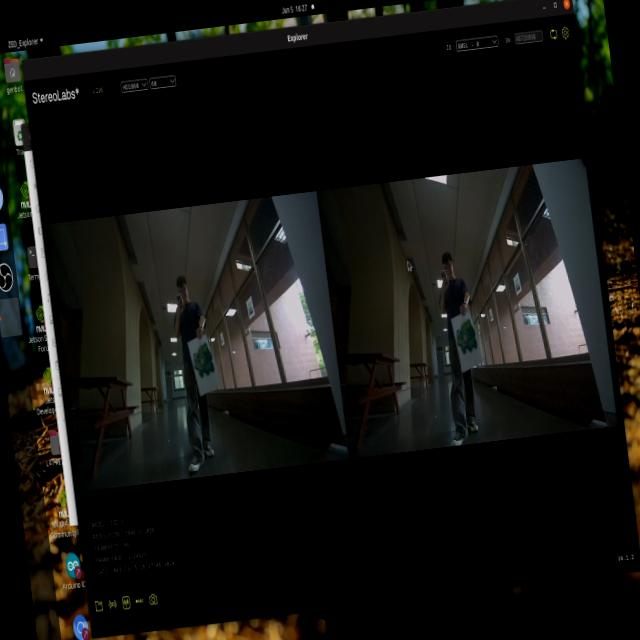green: (192, 337, 224, 382), (452, 312, 478, 358)
